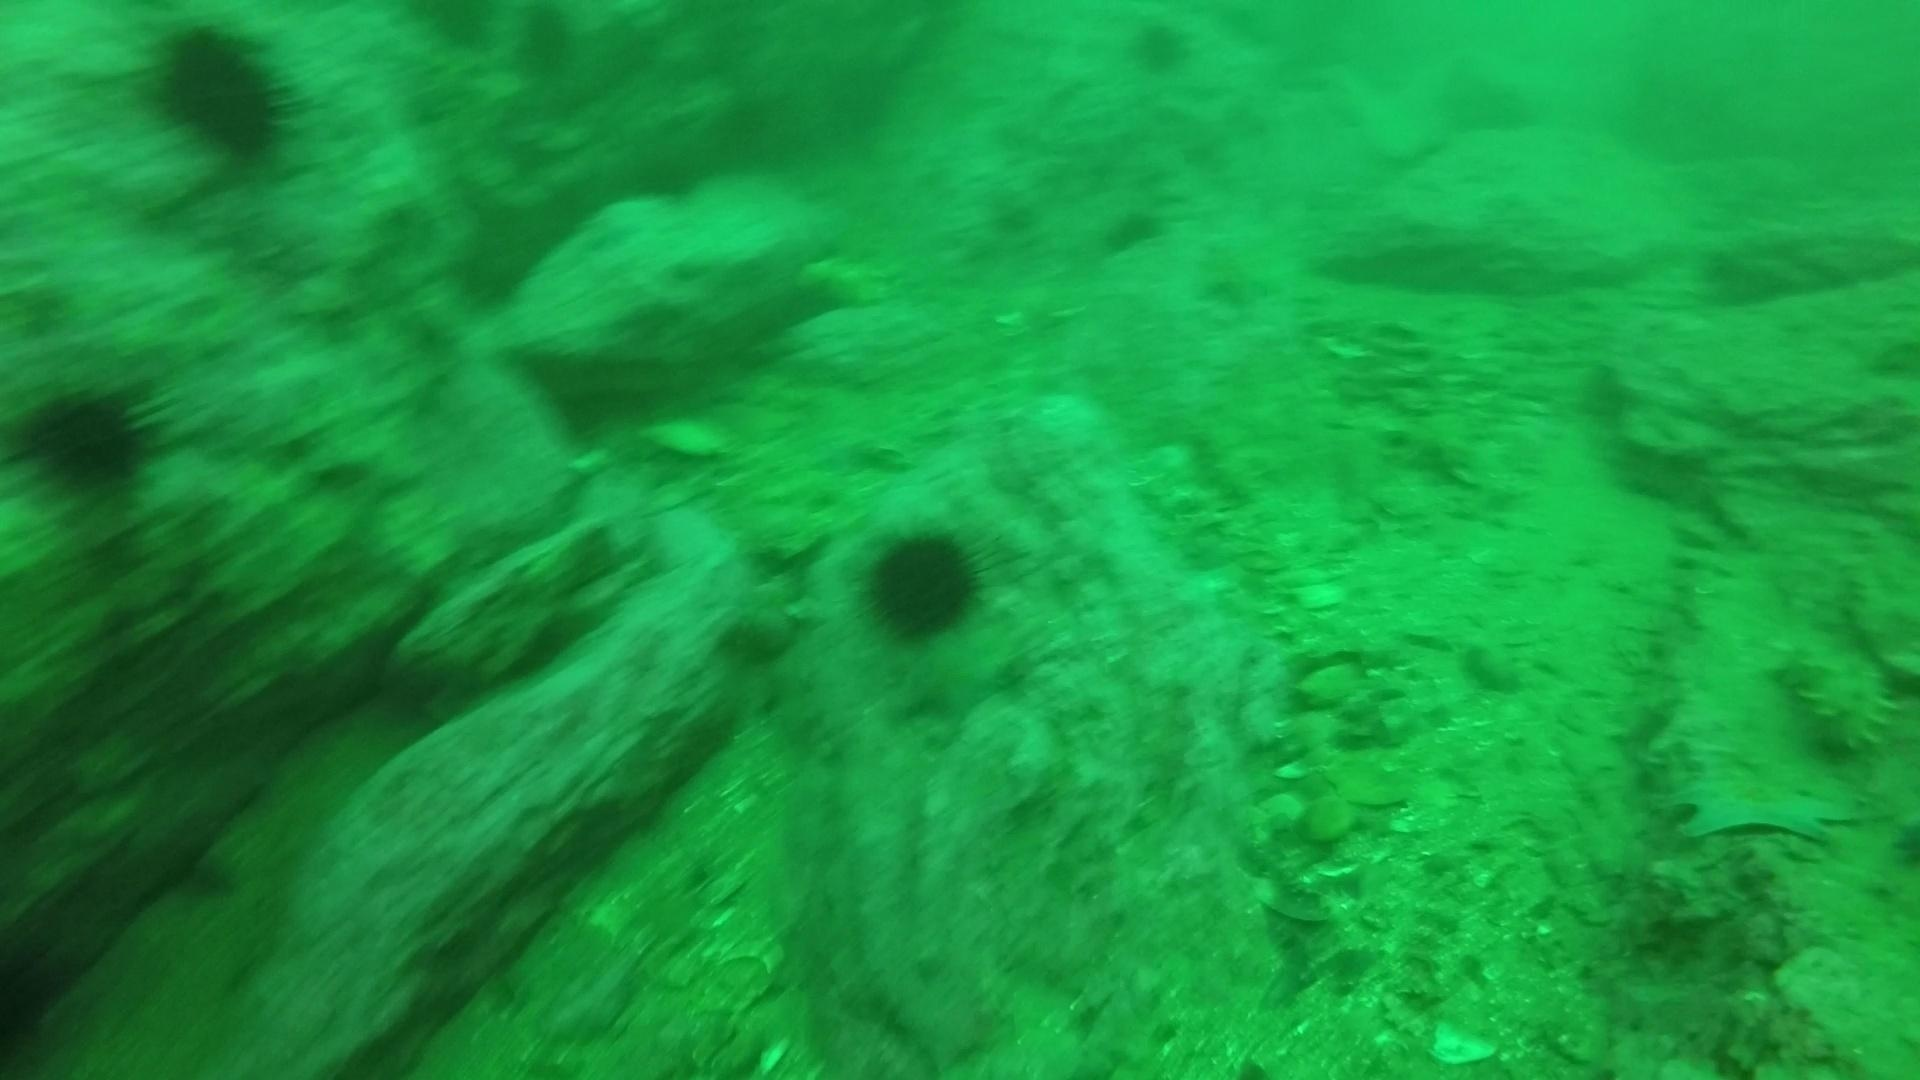echinus: (138, 16, 305, 167), (11, 375, 167, 498), (855, 520, 996, 646), (0, 926, 78, 1068), (1120, 15, 1200, 80)
holothurian: (1768, 630, 1907, 766)
starfish: (1662, 746, 1863, 855), (890, 625, 1023, 728)
